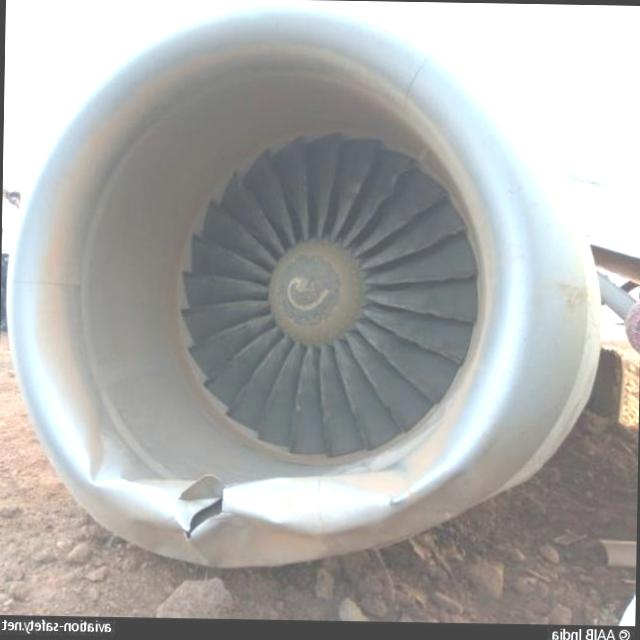crack: (187, 498, 222, 535)
dent: (191, 441, 424, 568), (53, 434, 178, 552), (175, 475, 223, 531)
